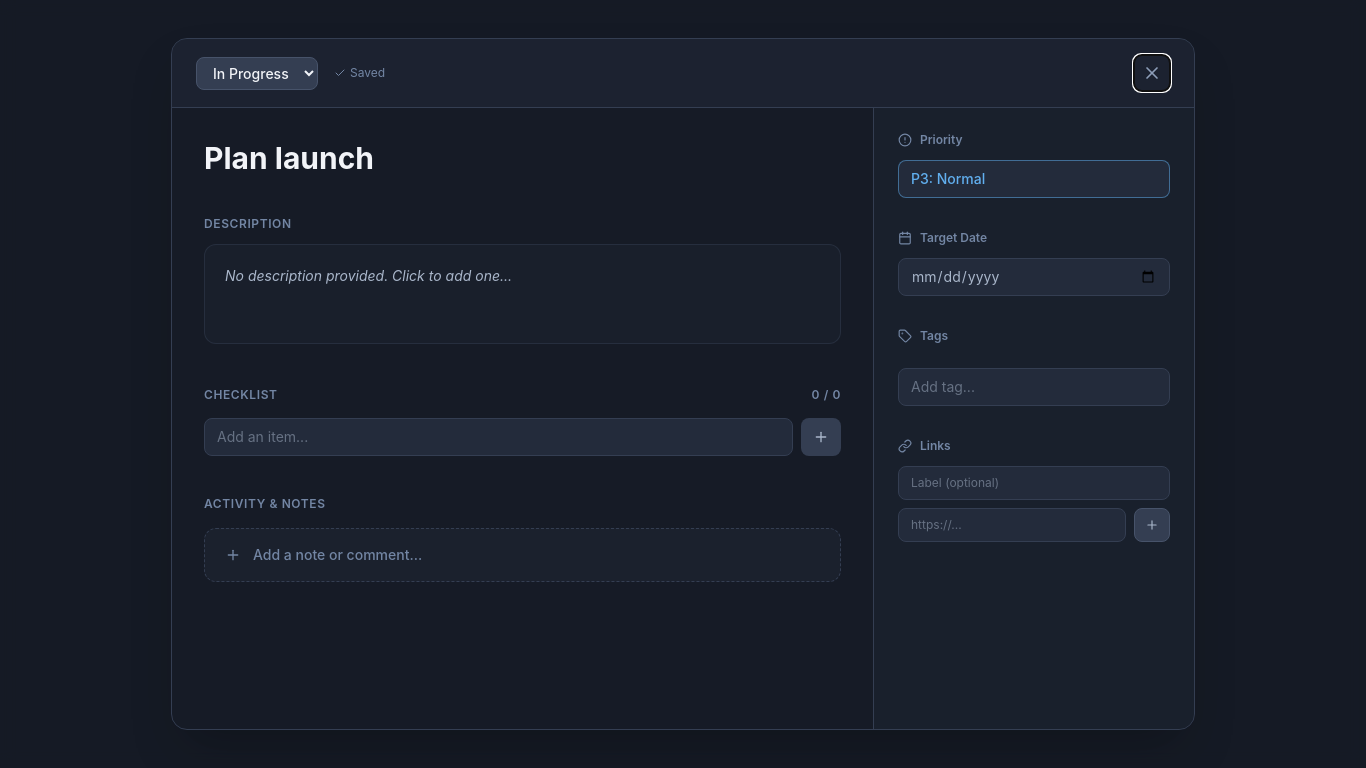
Test case: WorkspaceModal › keeps the link editor open when an invalid URL is submitted
Type "not a url" into the field with placeholder "https://...".
click(1012, 525); type("not a url")  # box 898,508 -> 1126,542
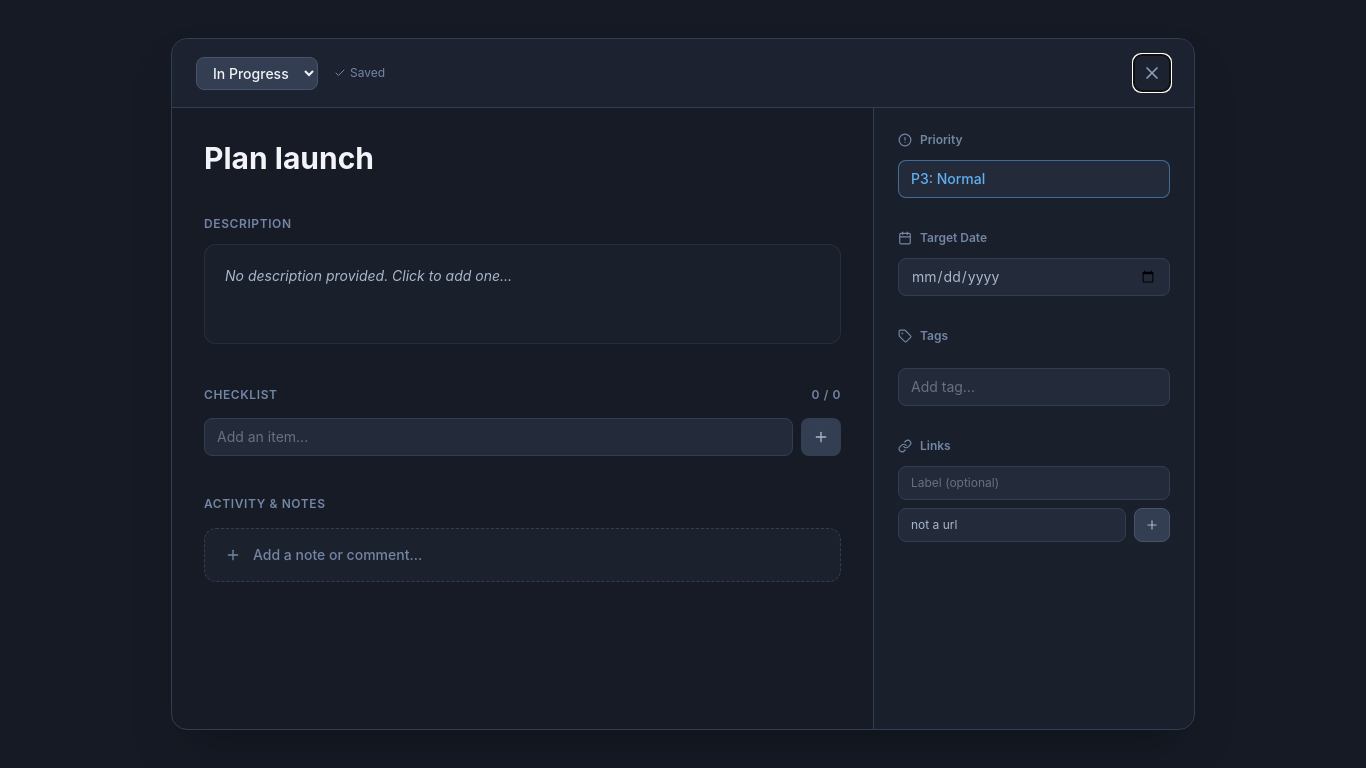
Click the button named "Add link".
click(1152, 525)  # box 1134,508 -> 1170,542
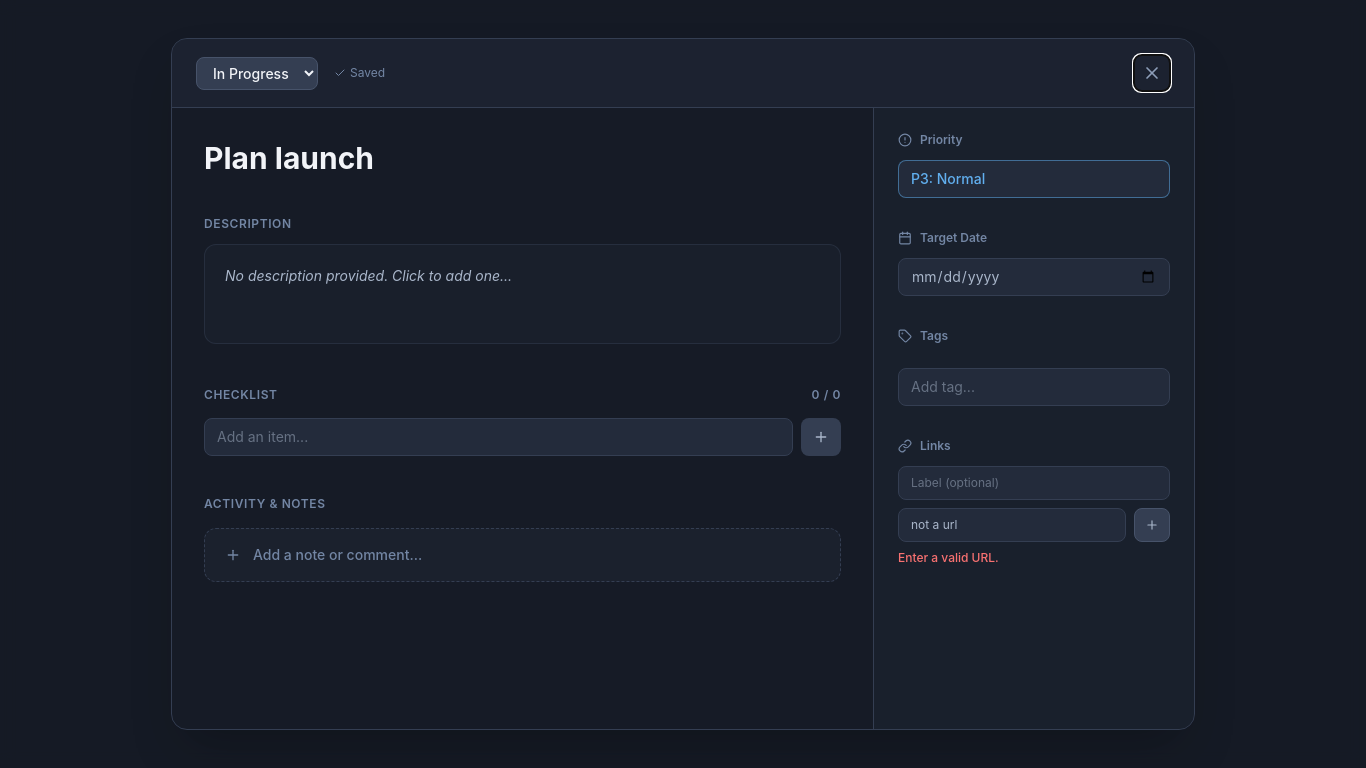
Expected: the text "Enter a valid URL." is shown, 898,550 -> 999,565
